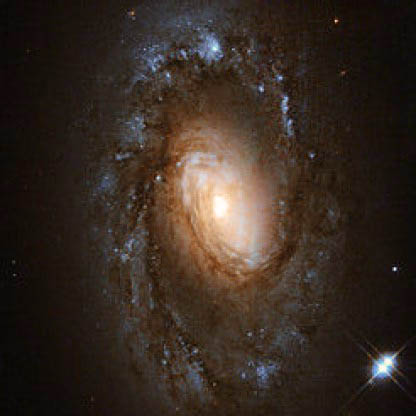NGC 4102: (37, 8, 406, 401)
